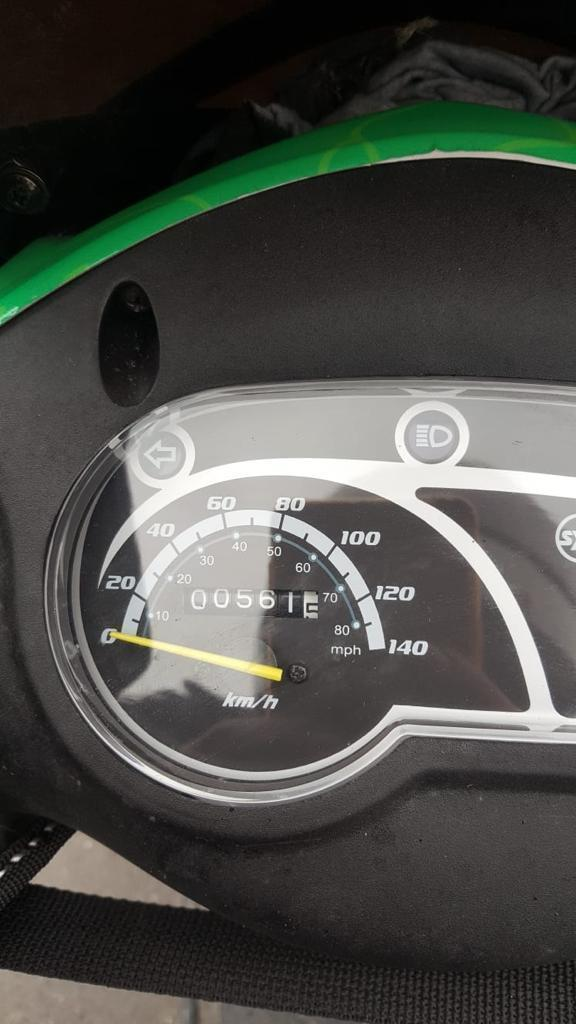0: (213, 587, 230, 610), (190, 587, 206, 611)
1: (285, 589, 297, 615)
5: (234, 586, 253, 608), (306, 601, 320, 621)
6: (258, 587, 277, 611)
odometer: (173, 584, 324, 627)
